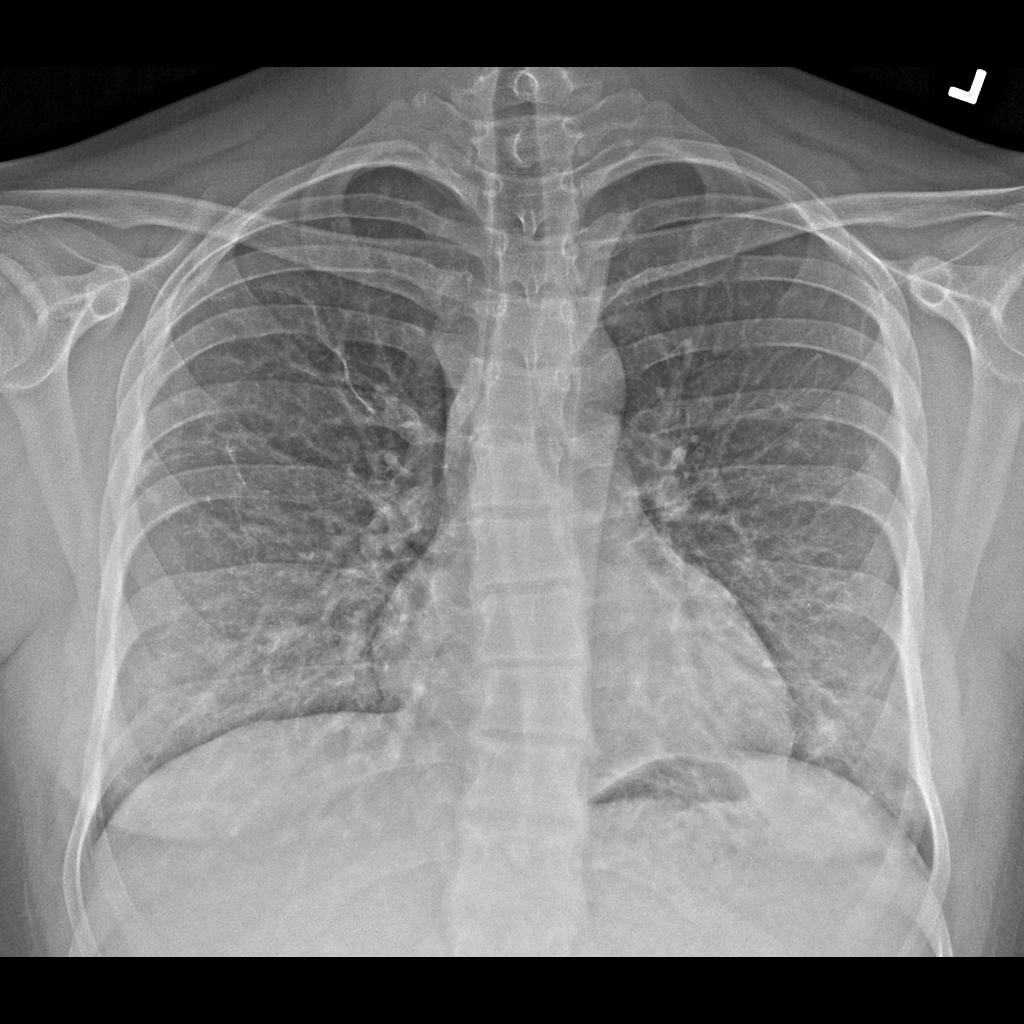Nodule: (807, 714, 860, 766)
